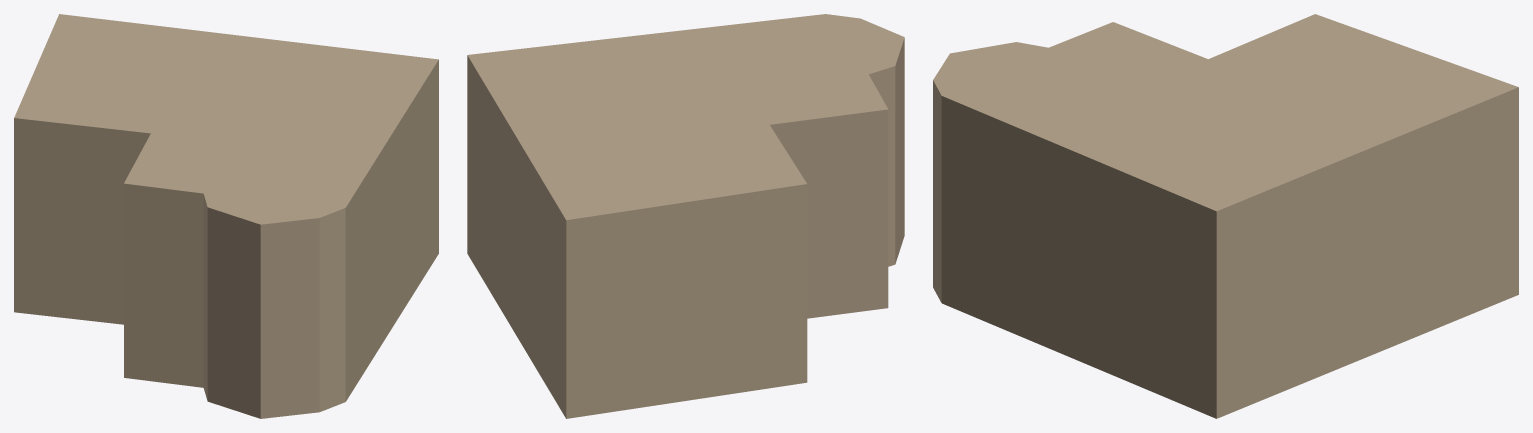
File: bld_99616014.dae
The picture shows the model from 3 angles, left to right: view 1: azimuth 30°, elevation 25°; view 2: azimuth 150°, elevation 25°; view 3: azimuth 270°, elevation 25°; orthographic projection. The views are drawn at different scales.
Parts seen in each view (by area): view 1: bld_99616014; view 2: bld_99616014; view 3: bld_99616014.
Boxes of the visible parts, x1,y1,x2,y2 form: bld_99616014: [14, 14, 438, 418]; bld_99616014: [467, 14, 904, 418]; bld_99616014: [933, 14, 1518, 418].
Bounding box in the file's own units: 16.31 × 20.46 × 8.
